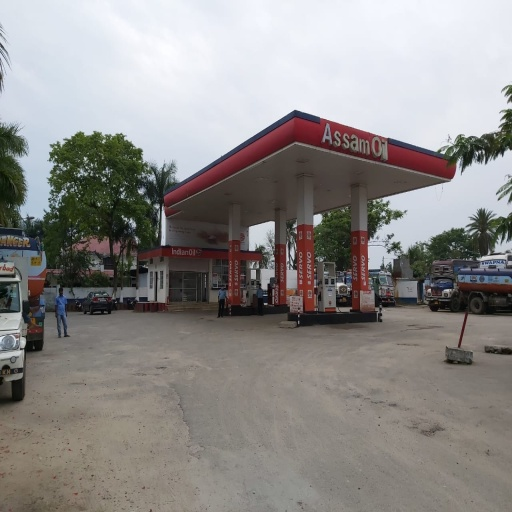roof: (161, 109, 457, 233)
